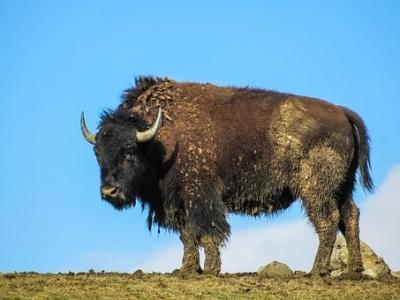buffalo: (81, 76, 372, 274)
